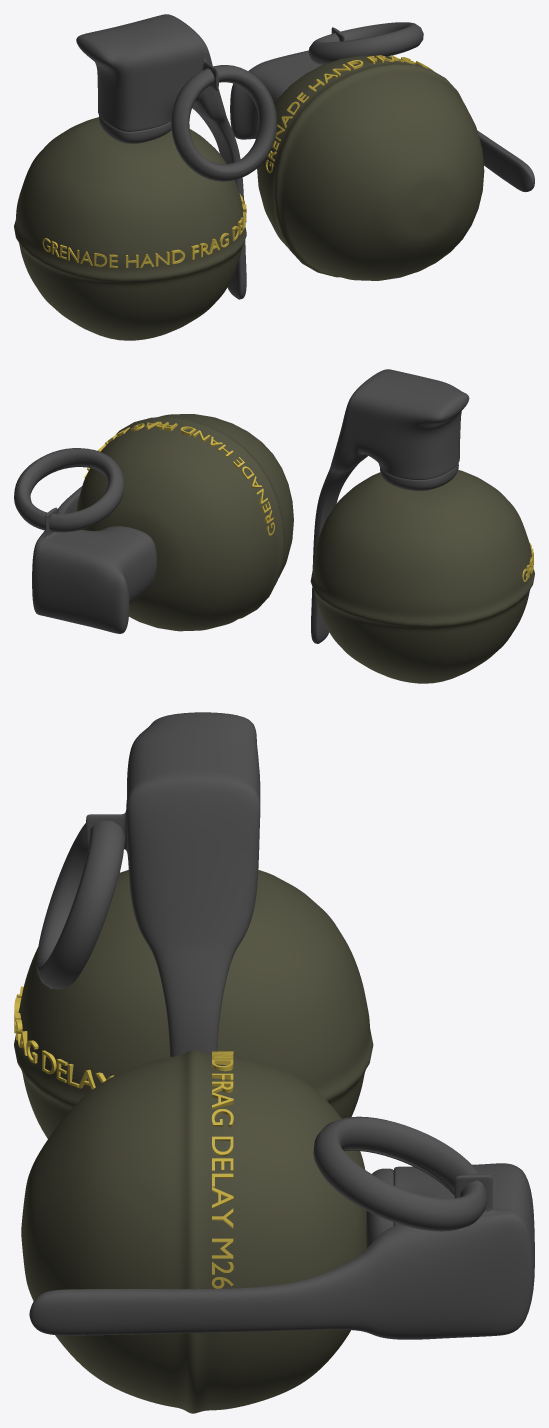
File: pubg.fbx
3 views of the same model, one above another, from view 1: azimuth 30°, elevation 25°; view 2: azimuth 150°, elevation 25°; view 3: azimuth 270°, elevation 25° (orthographic). The views are drawn at different scales.
Parts seen in each view (by area): view 1: Cube, Cube.001; view 2: Cube, Cube.001; view 3: Cube.001, Cube.
Part boxes in pixels (x1,y1,x2,y2): Cube: (14,14,276,340); Cube.001: (230,22,534,280); Cube: (310,369,534,683); Cube.001: (14,414,293,633); Cube.001: (21,1050,534,1413); Cube: (14,712,373,1138).
Size of what is drawn, in the model's own units: 254 by 160 by 160.
